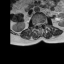CCS_normal: (37, 21, 40, 29)
LFS_normal: (41, 20, 43, 26)
LLS_normal: (40, 21, 41, 28)
RFS_normal: (34, 20, 36, 28)
RLS_normal: (36, 21, 37, 28)
